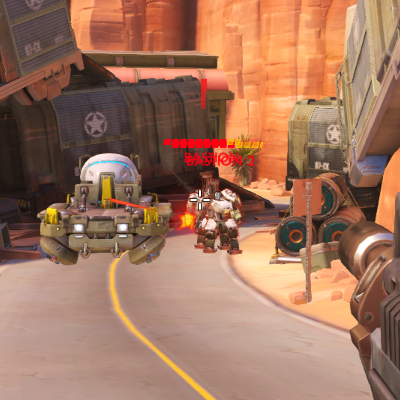hpbar: (172, 141, 268, 149), (163, 138, 242, 145)
